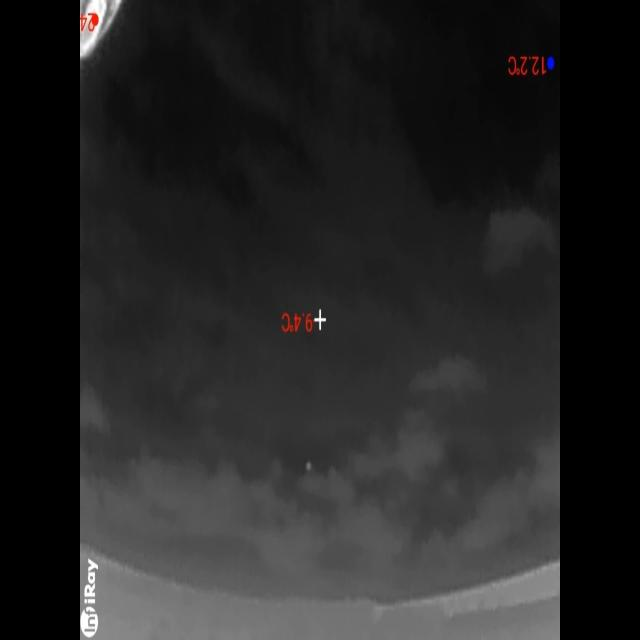drone: (305, 458, 313, 474)
